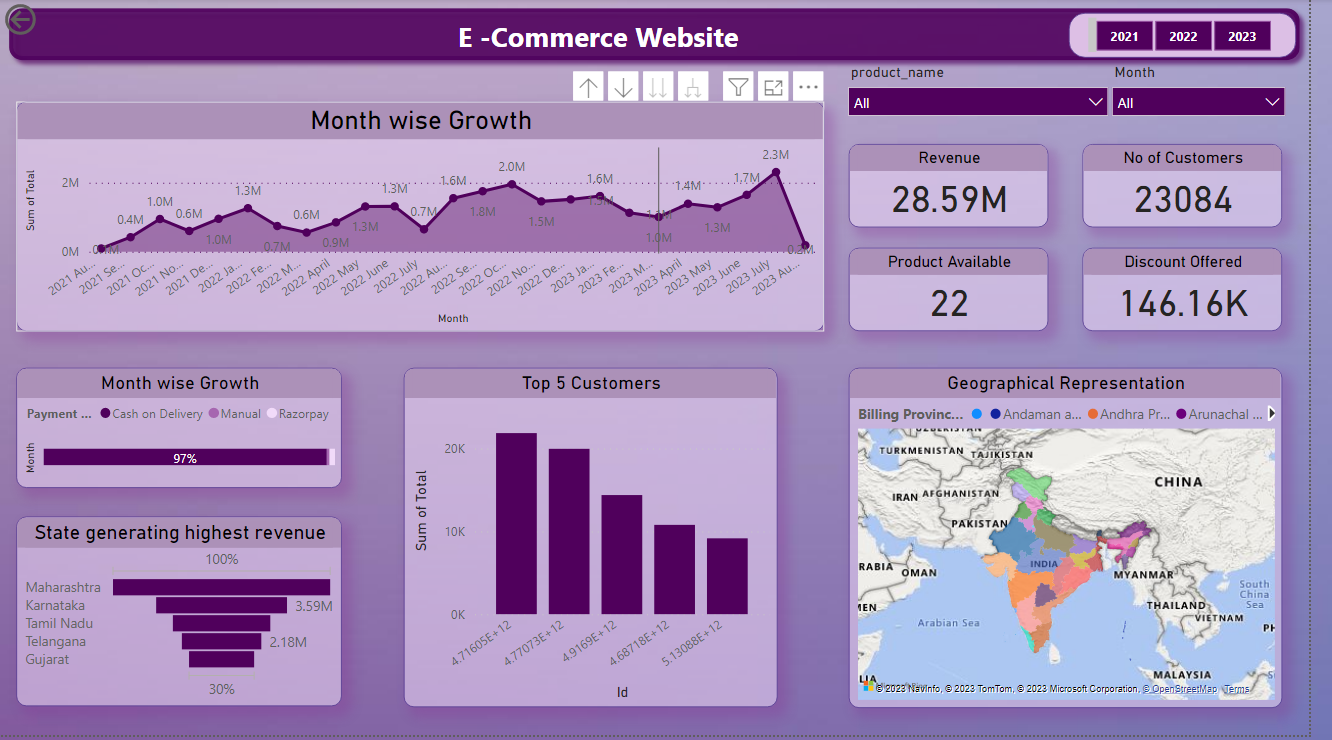

What the dashboard file says about the page in this screenshot:
{"tool":"powerbi","page":{"name":"Duplicate of Duplicate of Duplicate of Page 1","canvas":[1280,720],"ordinal":0},"visuals":[{"type":"shape","box":[0,0,1280,68.8],"z":0},{"type":"slicer","title":"Years","fields":{"Values":["orders.order_date.Variation.Date Hierarchy.Year"]},"box":[1045,13.8,222.5,43.8],"z":1000},{"type":"slicer","title":"Years","fields":{"Values":["orders.order_date.Variation.Date Hierarchy.Month"]},"box":[1077.5,57.5,190,61.2],"z":2000},{"type":"actionButton","box":[0,0,100,40],"z":3000},{"type":"slicer","title":"Years","fields":{"Values":["orders.product_name"]},"box":[818.8,57.5,275,61.2],"z":4000},{"type":"areaChart","title":"Month wise Growth","fields":{"Category":["orders.order_date.Variation.Date Hierarchy.Year","orders.order_date.Variation.Date Hierarchy.Month"],"Y":["Sum(orders.Total)"]},"box":[16.2,100,790,225],"z":5000},{"type":"card","title":"Revenue","fields":{"Values":["Sum(orders.Total)"]},"box":[830,141.2,195,81.2],"z":6000},{"type":"card","title":"No of Customers","fields":{"Values":["Count(orders.Id)"]},"box":[1058.8,141.2,195,81.2],"z":7000},{"type":"card","title":"Product Available","fields":{"Values":["Count(orders.product_name)"]},"box":[830,243.8,195,81.2],"z":8000},{"type":"card","title":"Discount Offered","fields":{"Values":["Sum(orders.Discount Amount)"]},"box":[1058.8,243.8,195,81.2],"z":9000},{"type":"hundredPercentStackedBarChart","title":"Month wise Growth","fields":{"Y":["CountNonNull(orders.Id)"],"Series":["orders.Payment Method"]},"box":[16.2,360,318.8,117.5],"z":10000},{"type":"filledMap","title":"Geographical Representation","fields":{"Category":["orders.Billing Province Name"],"Series":["orders.Billing Province Name"]},"box":[830,360,423.8,332.5],"z":11000},{"type":"funnel","title":"State generating highest revenue","fields":{"Category":["orders.Billing Province Name"],"Y":["Sum(orders.Total)"]},"box":[16,506.7,318.7,185.3],"z":12000},{"type":"columnChart","title":"Top 5 Customers","fields":{"Category":["orders.Id"],"Y":["Sum(orders.Total)"]},"box":[394.7,360,365.3,332],"z":13000},{"type":"textbox","box":[100,13.3,977.3,44],"z":14000}]}

Visuals, with their boxes in screenshot pixels (x1, y1, x2, y2), scaled from the page's 1280x720 canvas onto the 1332x740 screenshot:
shape: [x1=0, y1=0, x2=1331, y2=71]
"Years" slicer: [x1=1087, y1=14, x2=1319, y2=59]
"Years" slicer: [x1=1121, y1=59, x2=1319, y2=122]
actionButton: [x1=0, y1=0, x2=104, y2=41]
"Years" slicer: [x1=852, y1=59, x2=1138, y2=122]
"Month wise Growth" areaChart: [x1=17, y1=103, x2=839, y2=334]
"Revenue" card: [x1=864, y1=145, x2=1067, y2=229]
"No of Customers" card: [x1=1102, y1=145, x2=1305, y2=229]
"Product Available" card: [x1=864, y1=251, x2=1067, y2=334]
"Discount Offered" card: [x1=1102, y1=251, x2=1305, y2=334]
"Month wise Growth" hundredPercentStackedBarChart: [x1=17, y1=370, x2=349, y2=491]
"Geographical Representation" filledMap: [x1=864, y1=370, x2=1305, y2=712]
"State generating highest revenue" funnel: [x1=17, y1=521, x2=348, y2=711]
"Top 5 Customers" columnChart: [x1=411, y1=370, x2=791, y2=711]
textbox: [x1=104, y1=14, x2=1121, y2=59]
